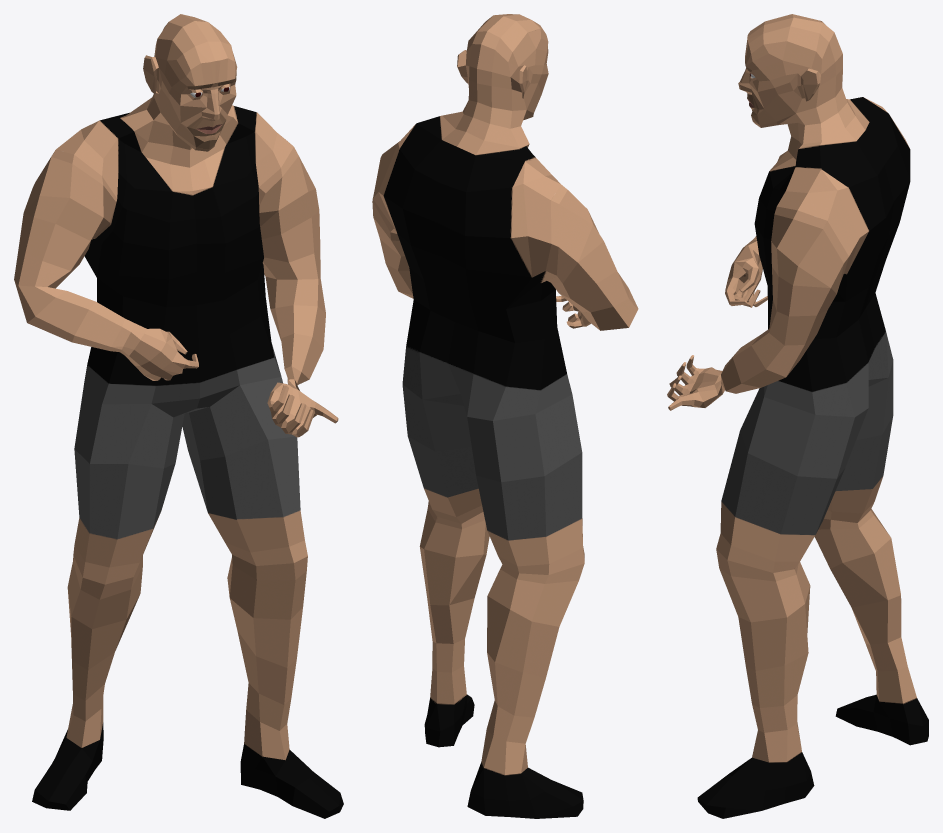
File: PlayerIdle(73).obj
3 renders of one model, left to right at view 1: azimuth 30°, elevation 25°; view 2: azimuth 150°, elevation 25°; view 3: azimuth 270°, elevation 25°, orthographic. The views are drawn at different scales.
Parts seen in each view (by area): view 1: Plane002; view 2: Plane002; view 3: Plane002.
Part boxes in pixels (x1,y1,x2,y2): Plane002: (14,14,343,818); Plane002: (372,14,638,818); Plane002: (667,14,928,818).
Bounding box in the file's own units: 669 × 1799 × 570.
